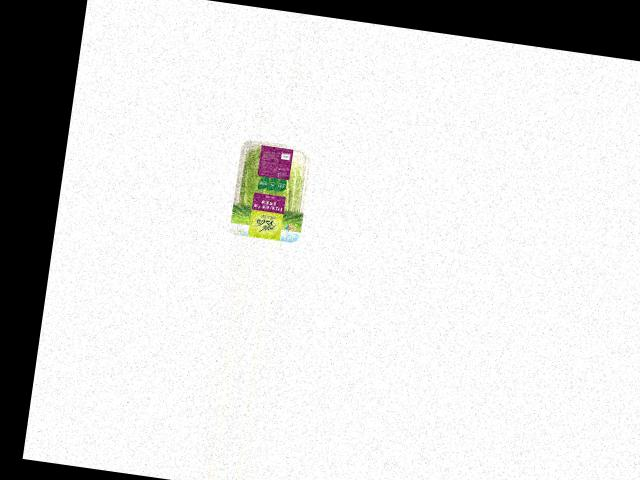lettuce: (229, 137, 314, 237)
